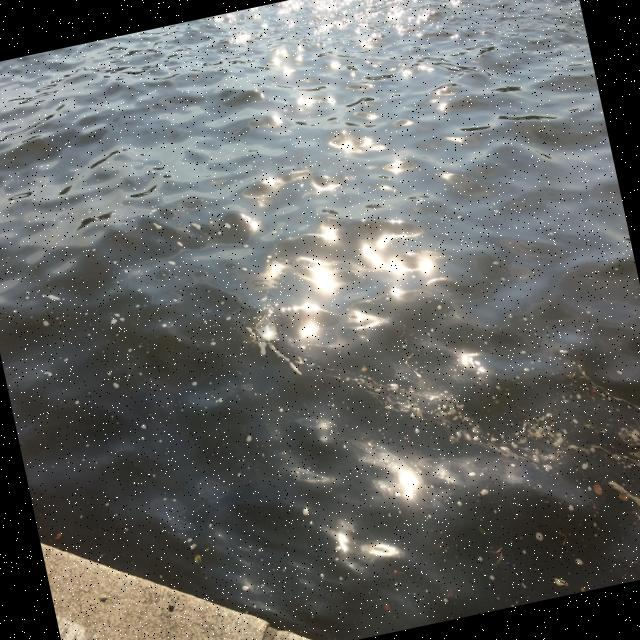Plastic film: (256, 314, 277, 340)
